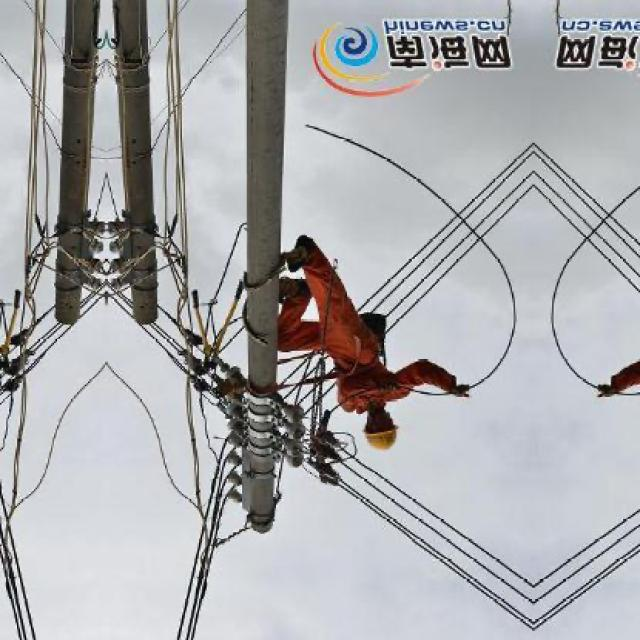con casco: (324, 396, 447, 470)
